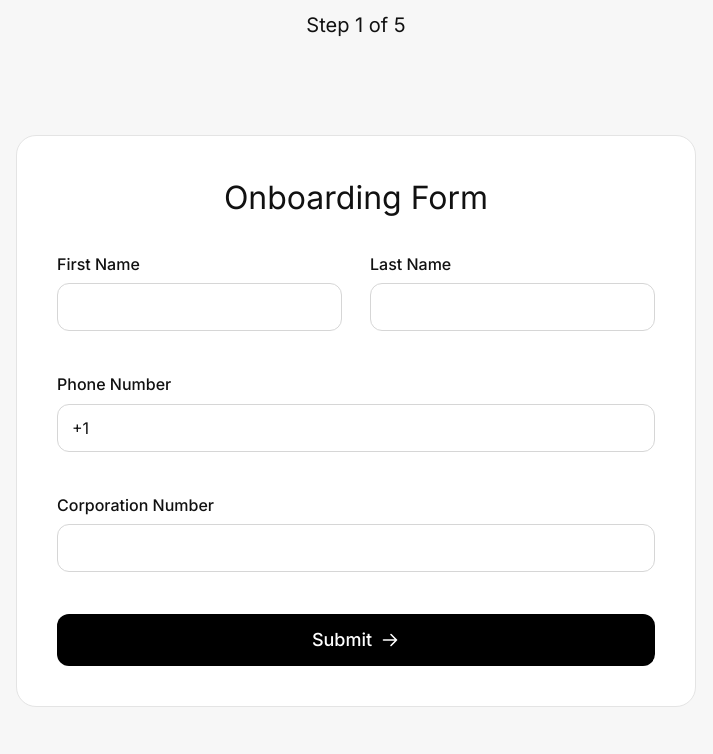
Test: onboarding form › shows other 400 messages above the button
Type "Hello" into the field labelled "First Name" at [200, 307], box [57,283,342,331]
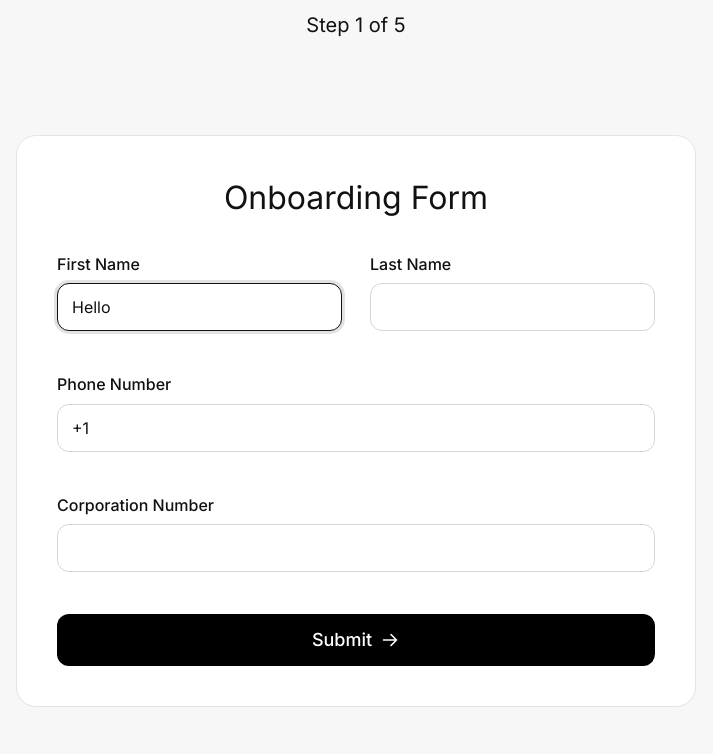
Type "World" into the field labelled "Last Name" at [512, 307], box [370,283,655,331]
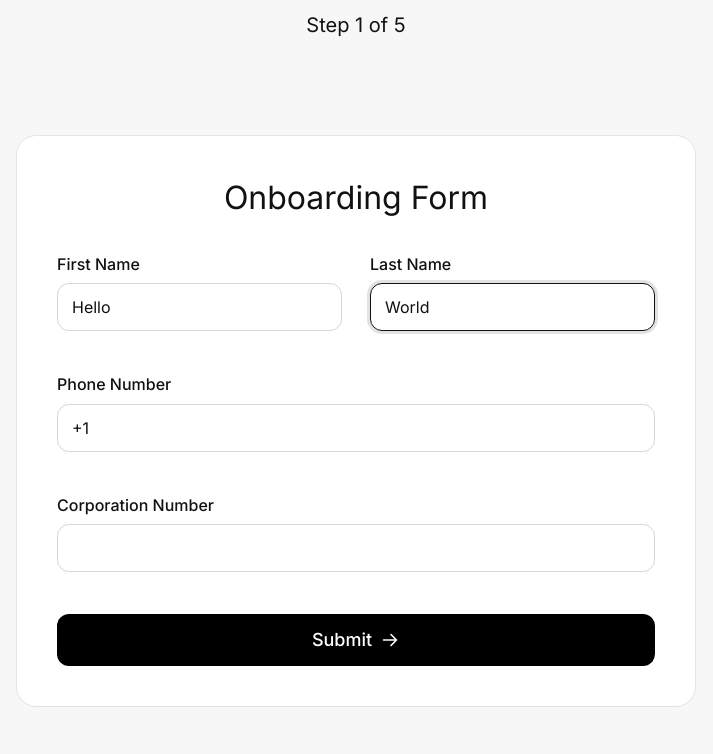
Type "3062776103" into the field labelled "Phone Number" at [356, 428], box [57,404,655,452]
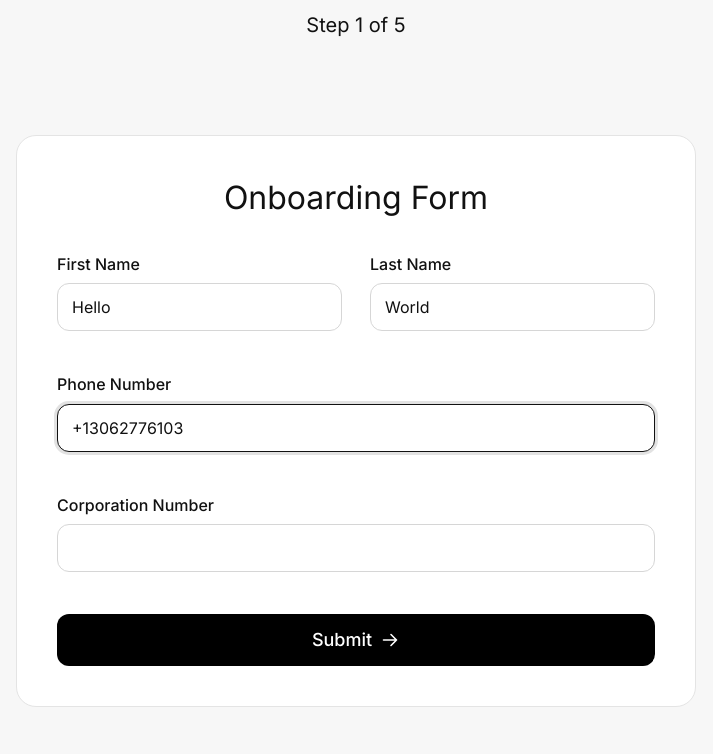
Type "826417395" into the field labelled "Corporation Number" at [356, 548], box [57,524,655,572]
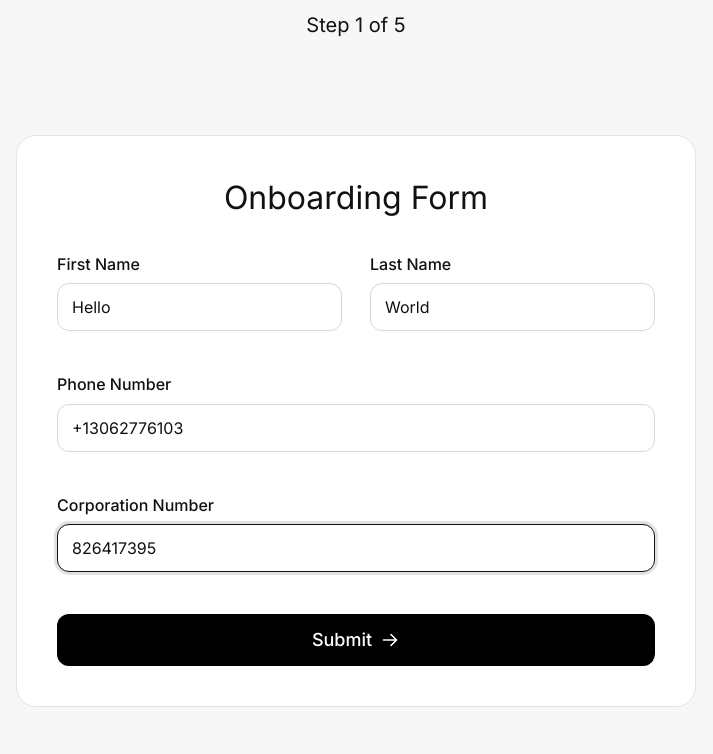
Click the button "Submit" at [356, 640], box [57,614,655,666]
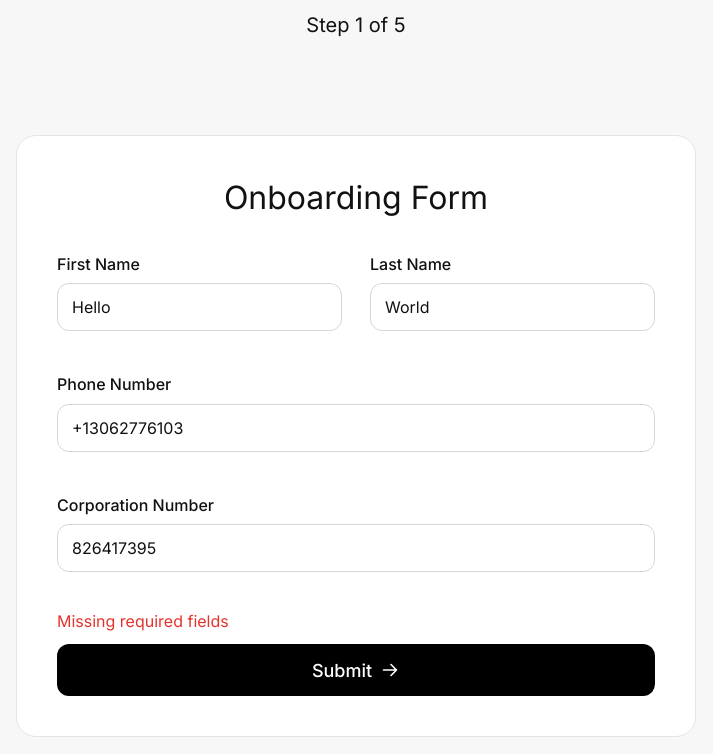
Result: the message reads "Missing required fields" at [57,611,229,631]
